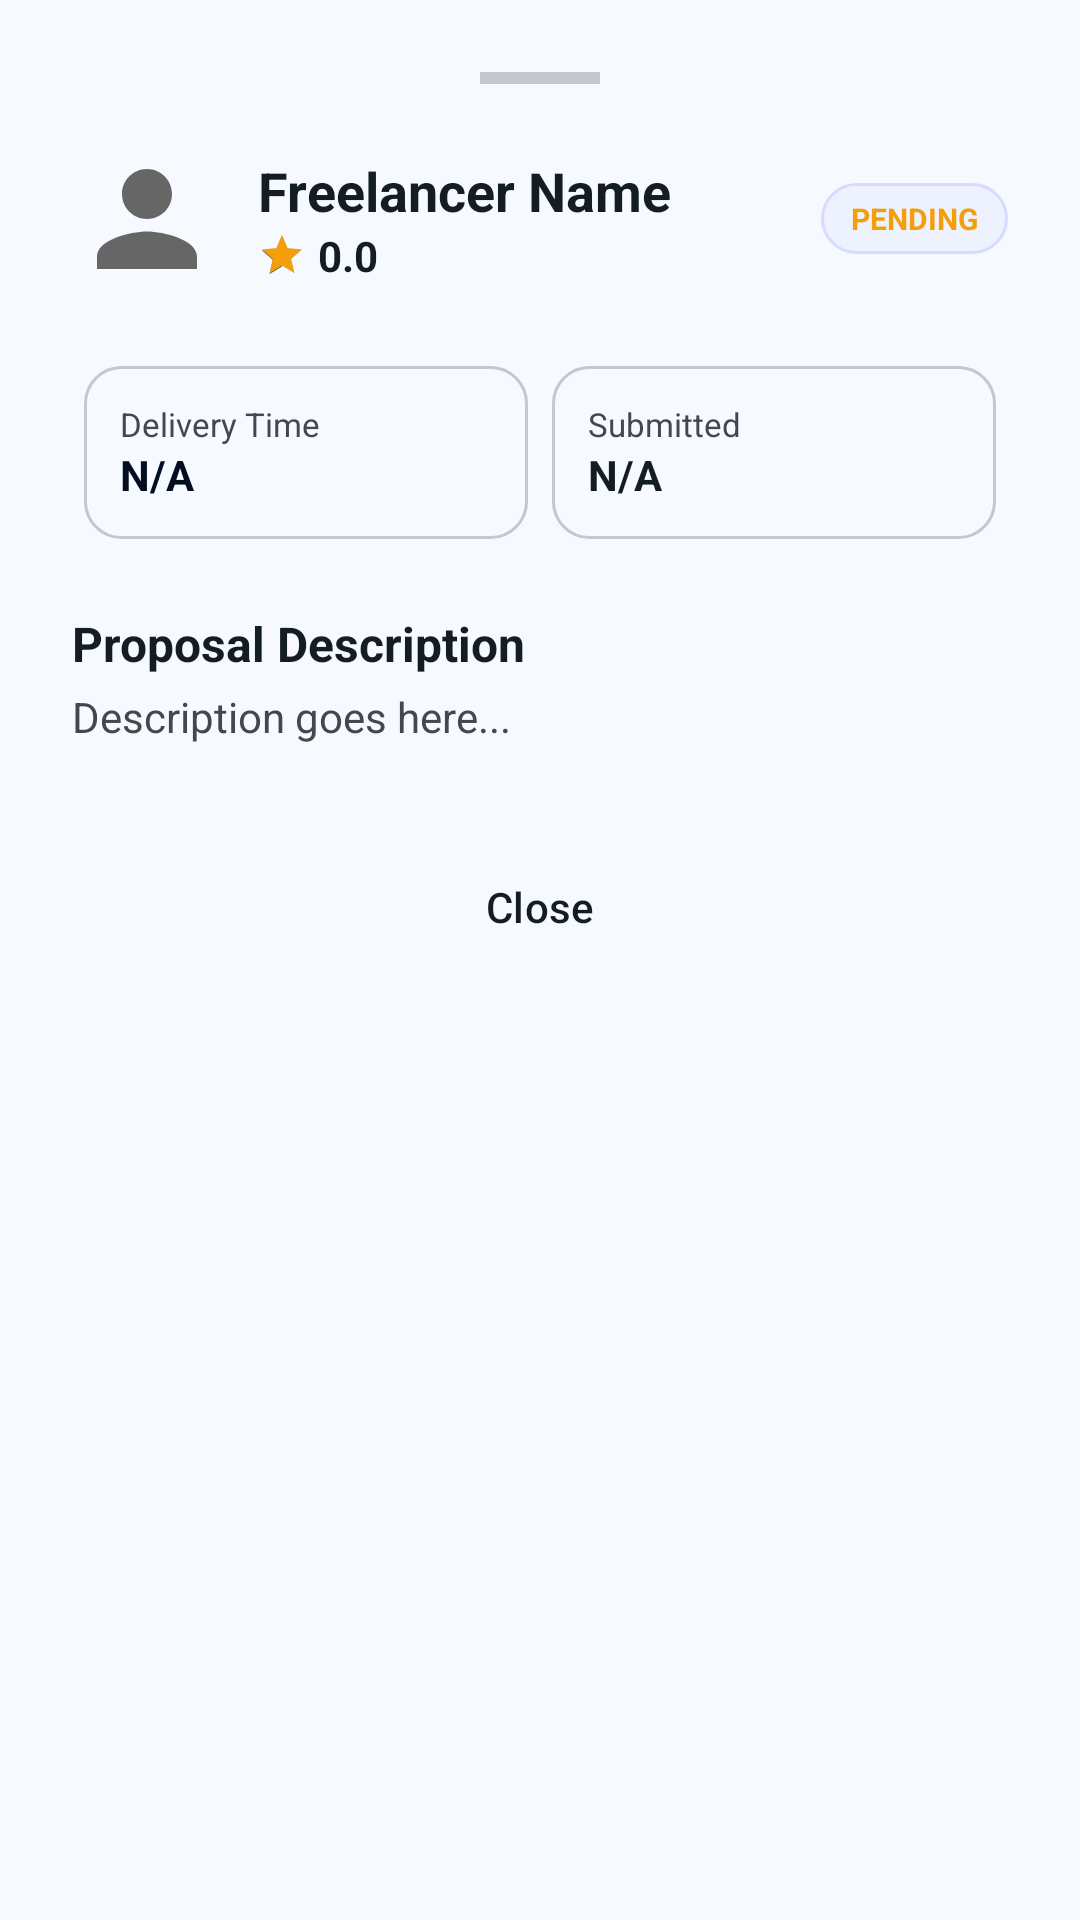

Screen size 1080px×1920px. Icon name, then its center in pixels as (x=x, y=y):
profile: (x=147, y=219)
